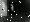person: (1, 1, 8, 17), (10, 3, 17, 16)
